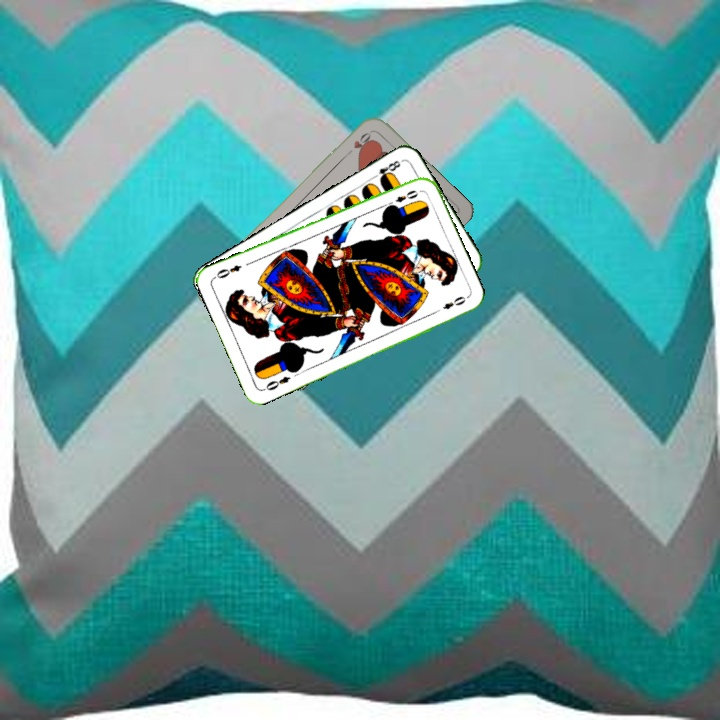E8: (367, 156, 403, 184)
EO: (384, 186, 421, 209), (259, 372, 293, 393)
HO: (343, 127, 375, 158)
